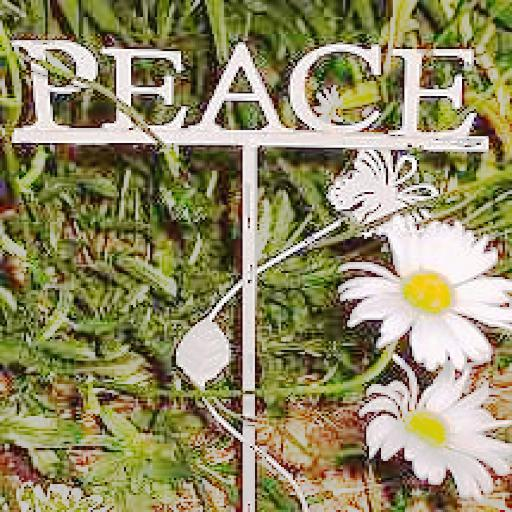daisy: (357, 226, 503, 367), (364, 376, 512, 506)
